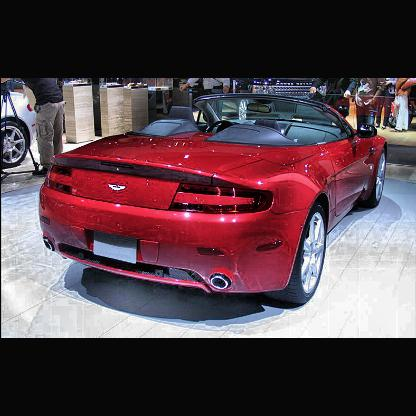Aston Martin V8 Vantage Convertible 2012: (32, 86, 399, 324)
